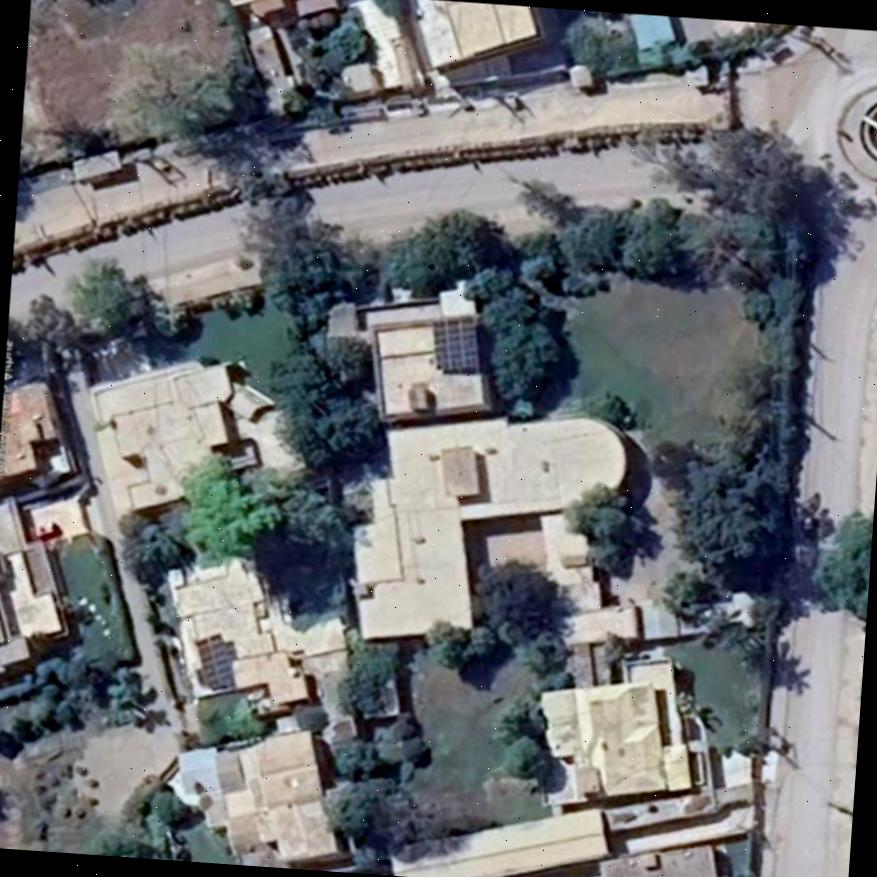Solarpanel: (435, 316, 479, 373), (190, 634, 235, 688)
